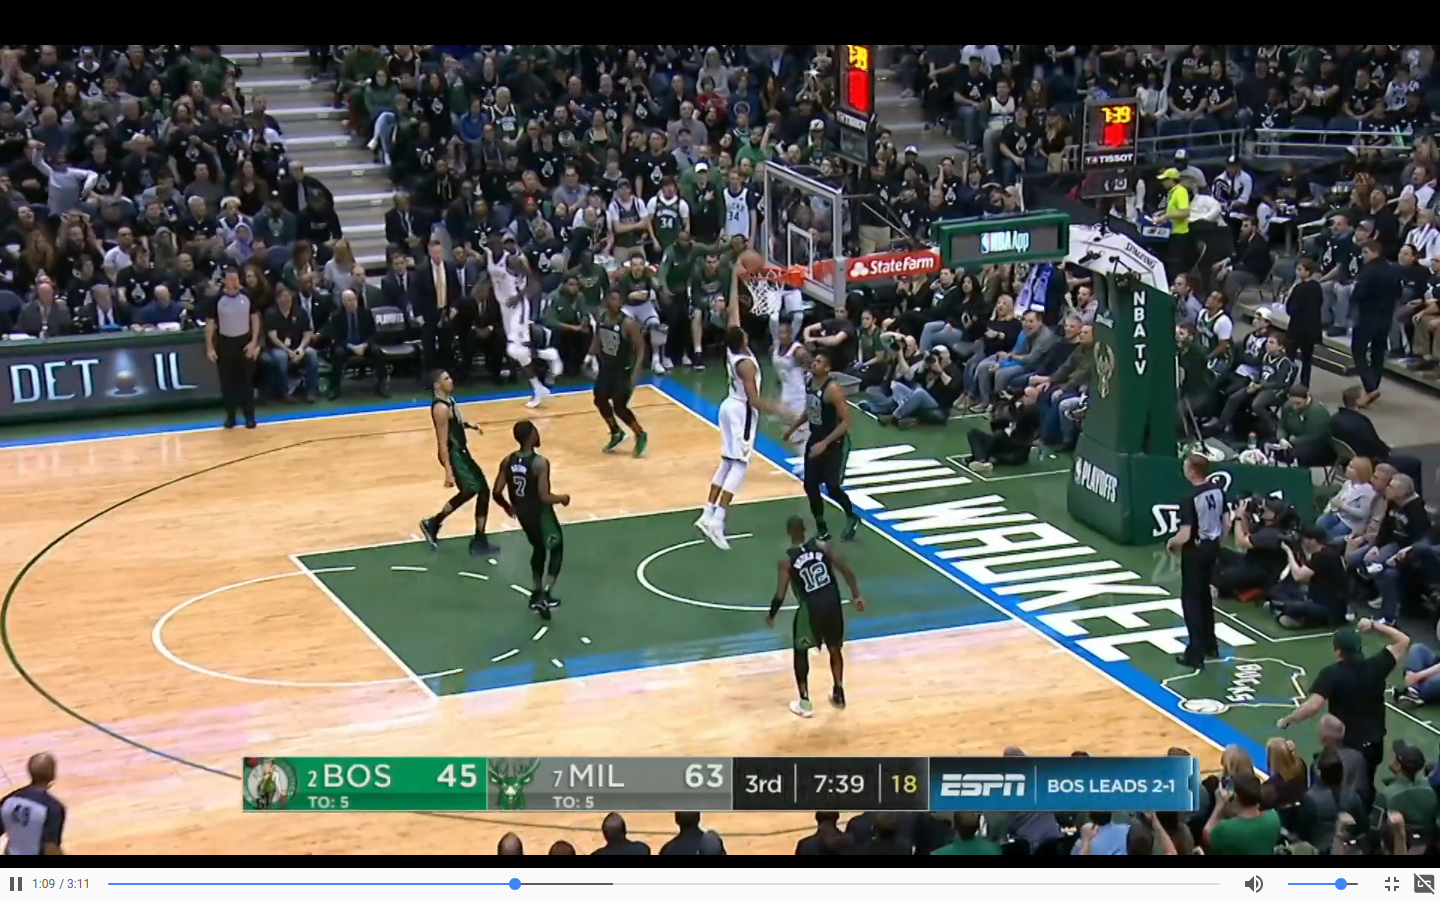basketball: (733, 239, 767, 282)
basketball player: (761, 514, 859, 717), (488, 417, 578, 623), (695, 314, 767, 559), (788, 349, 873, 546), (478, 231, 567, 412), (419, 363, 498, 562), (581, 283, 653, 465), (767, 312, 810, 462)
referee: (1170, 452, 1235, 672), (201, 265, 264, 436), (1, 745, 78, 851)
